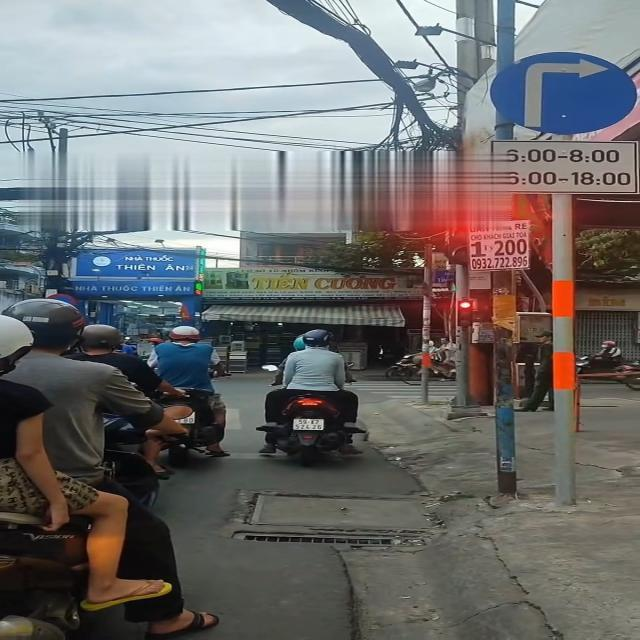301d-cac-xe-chi-duoc-re-phai-2: (489, 50, 640, 137)
